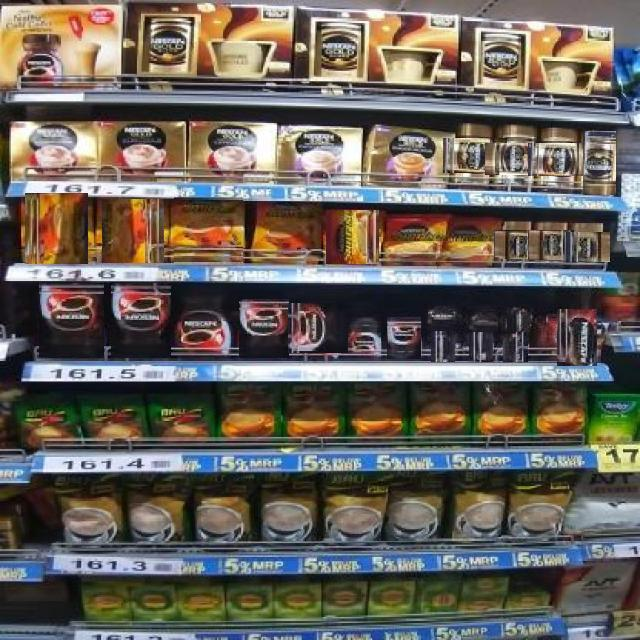Coffee: (38, 281, 104, 358), (110, 282, 171, 358), (174, 198, 243, 263), (25, 194, 88, 264), (253, 199, 319, 264), (176, 283, 230, 358), (102, 199, 164, 263), (238, 298, 289, 358), (288, 304, 348, 353), (326, 209, 379, 264), (442, 216, 494, 268), (389, 215, 441, 265), (556, 309, 597, 366), (442, 138, 507, 173), (582, 131, 616, 195), (485, 143, 549, 175), (527, 144, 591, 176), (348, 316, 382, 360), (387, 317, 421, 359), (494, 229, 540, 259), (528, 230, 574, 260), (564, 232, 610, 262), (427, 306, 461, 331), (503, 332, 528, 362), (467, 309, 498, 333), (431, 332, 455, 362), (469, 332, 493, 362), (507, 305, 530, 336)
